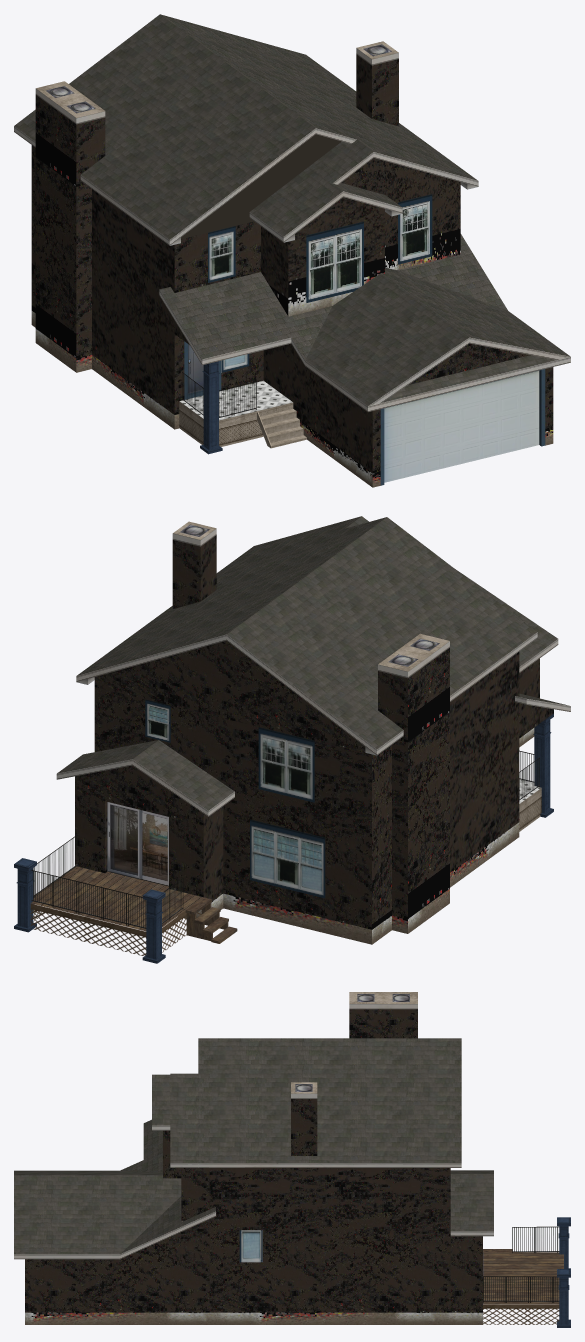
File: House.glb
The picture shows the model from 3 angles, top to bottom: view 1: azimuth 30°, elevation 25°; view 2: azimuth 150°, elevation 25°; view 3: azimuth 270°, elevation 25°; orthographic projection. The views are drawn at different scales.
Visible parts, largest first — view 1: House.002; view 2: House.002; view 3: House.002.
Boxes of the visible parts, <box> form: House.002: <box>14,14,570,487</box>; House.002: <box>14,516,570,963</box>; House.002: <box>14,992,570,1327</box>.
Size of the model in its own units: 9.74 by 8.64 by 18.76.
Materials: 8 (8 with a texture image).
